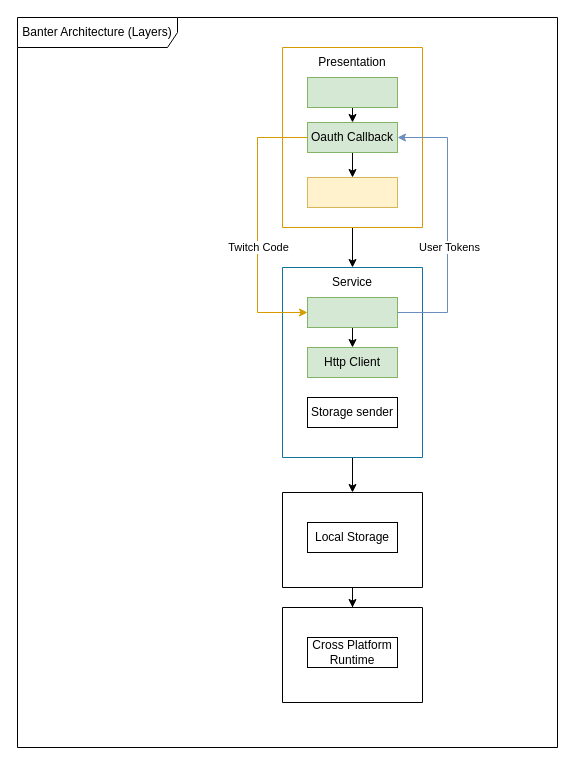
This 575x765 diagram has some shape labels left out. Each missing label, with the centre of its shape:
Chat/Settings: point 352,192
Login: point 352,92
Token Exchanger: point 352,312
